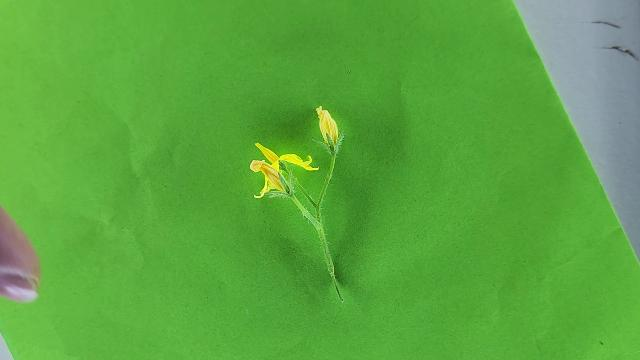Anthesis: (249, 140, 318, 198), (316, 104, 340, 149), (249, 158, 283, 189)
